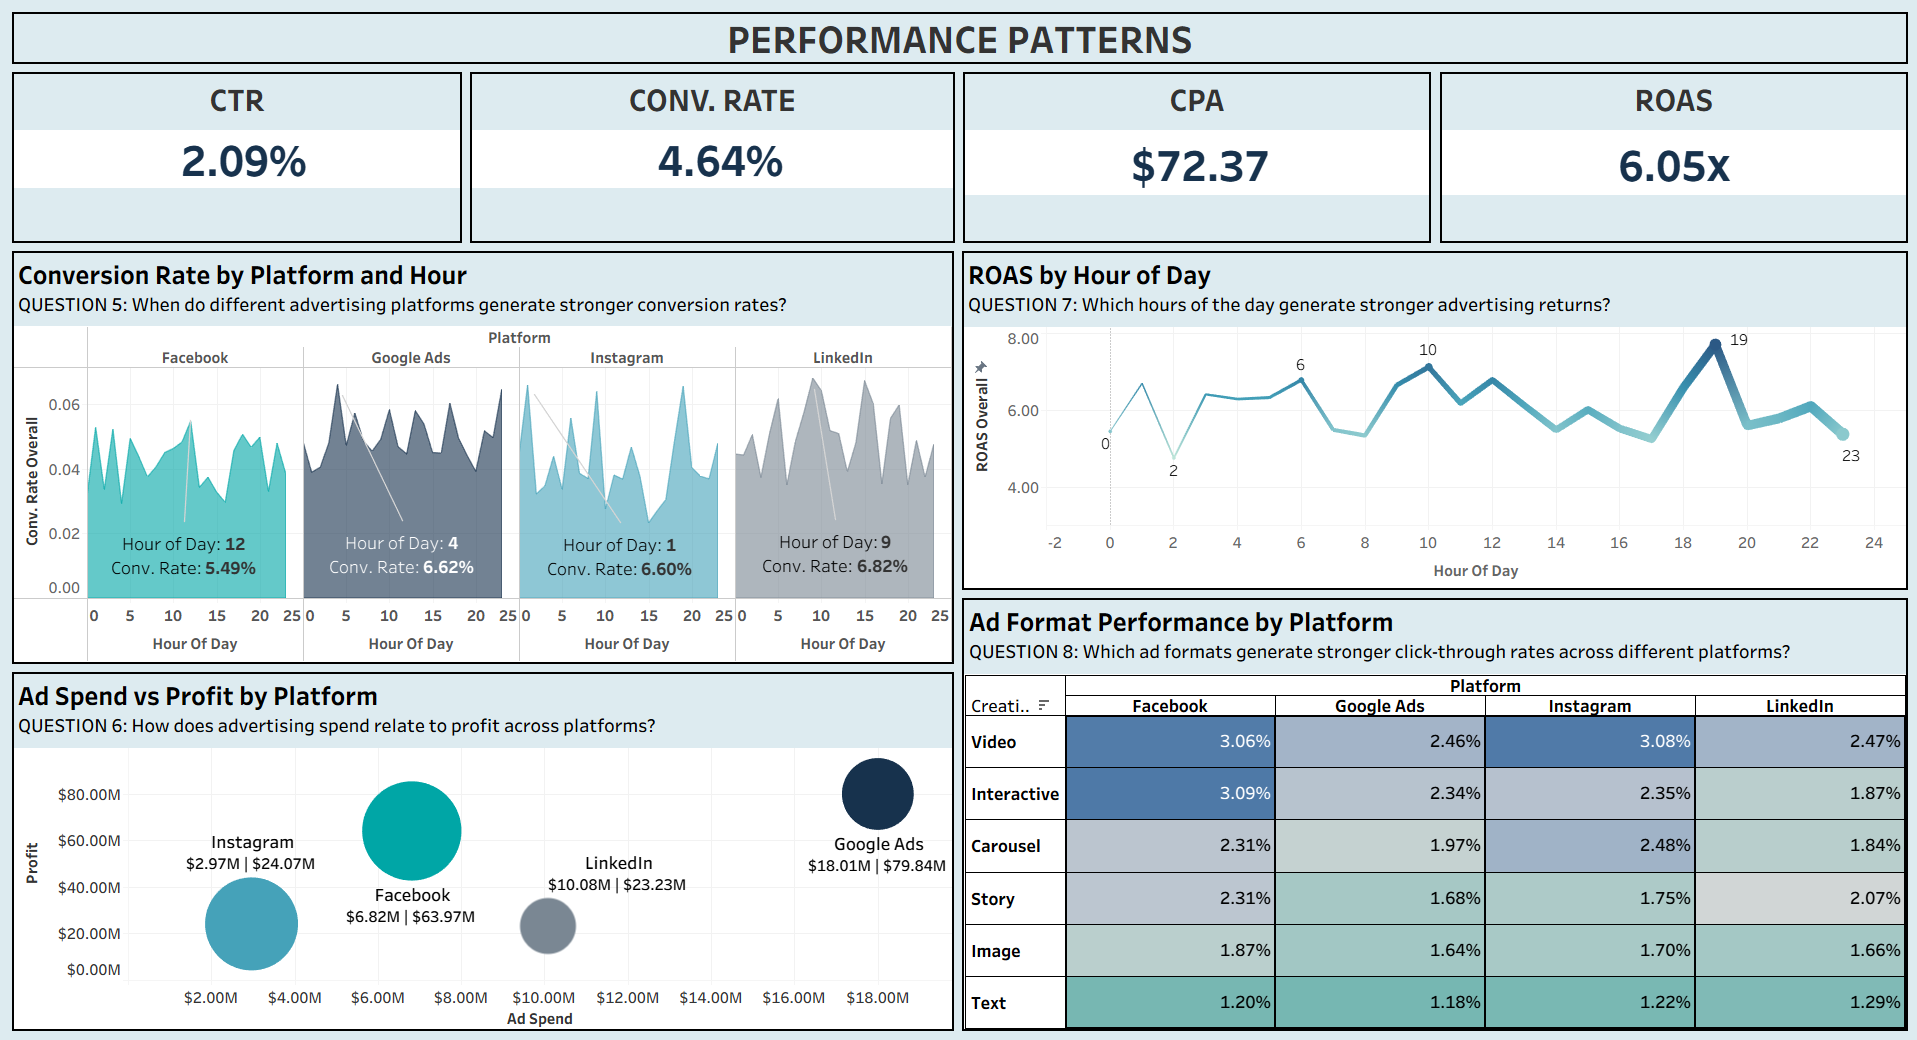

This screenshot's page, from the dashboard's own definition file:
{"tool":"tableau","page":{"name":"PERFORMANCE PATTERNS","canvas":[1000,1000],"units":"permille","ordinal":1},"visuals":[{"type":"title","box":[4.8,9.4,990.3,70.5]},{"type":"worksheet","title":"KPI 5 — Overall CTR","mark":"Automatic","box":[4.8,79.9,247.4,168.1]},{"type":"worksheet","title":"KPI 6 — Overall Conversion Rate","mark":"Automatic","box":[252.2,79.9,247.4,168.1]},{"type":"worksheet","title":"KPI 7 — Overall CPA","mark":"Automatic","box":[499.6,79.9,247.8,168.1]},{"type":"worksheet","title":"KPI 8 — Overall ROAS","mark":"Automatic","box":[747.4,79.9,247.8,168.1]},{"type":"worksheet","title":"Hour_Platform_Conversion Rate","mark":"Area","rows":["Calculation_1419794729402371"],"cols":["platform","hour_of_day"],"box":[4.8,248,494.4,396.6]},{"type":"worksheet","title":"ROAS_by_Hour_of_Day","mark":"Line","rows":["Calculation_1419794721968128"],"cols":["hour_of_day"],"box":[499.2,248,496,327]},{"type":"worksheet","title":"Ad_Format_Performance_by_Platform","mark":"Square","rows":["creative_format"],"cols":["platform"],"box":[499.2,575.1,496,415.6]},{"type":"worksheet","title":"Ad_Spent_vs_Profit_by_Platform","mark":"Automatic","rows":["profit"],"cols":["ad_spend"],"box":[4.8,644.6,494.4,346]}]}

Visuals, with their boxes on the dashboard's canvas, which has no fixed pixel size, in thousandths of its width and height (x1, y1, x2, y2). These are canvas units, not pixel positions in the 1917x1040 screenshot, which may show the page scaled, cropped or inside an application window:
title: (5, 9, 995, 80)
"KPI 5 — Overall CTR" worksheet: (5, 80, 252, 248)
"KPI 6 — Overall Conversion Rate" worksheet: (252, 80, 500, 248)
"KPI 7 — Overall CPA" worksheet: (500, 80, 747, 248)
"KPI 8 — Overall ROAS" worksheet: (747, 80, 995, 248)
"Hour_Platform_Conversion Rate" worksheet (Area marks): (5, 248, 499, 645)
"ROAS_by_Hour_of_Day" worksheet (Line marks): (499, 248, 995, 575)
"Ad_Format_Performance_by_Platform" worksheet (Square marks): (499, 575, 995, 991)
"Ad_Spent_vs_Profit_by_Platform" worksheet: (5, 645, 499, 991)
